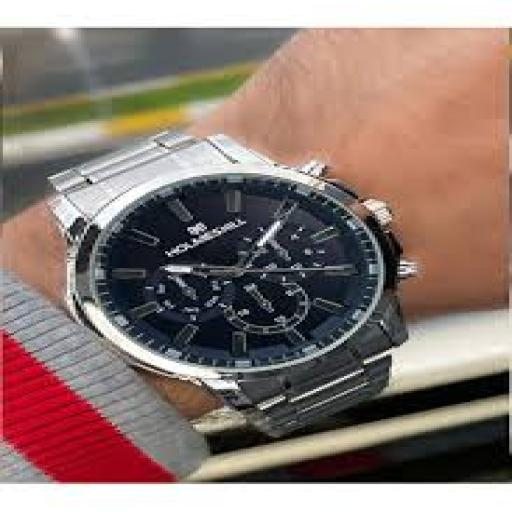KolSaati: (14, 117, 462, 446)
